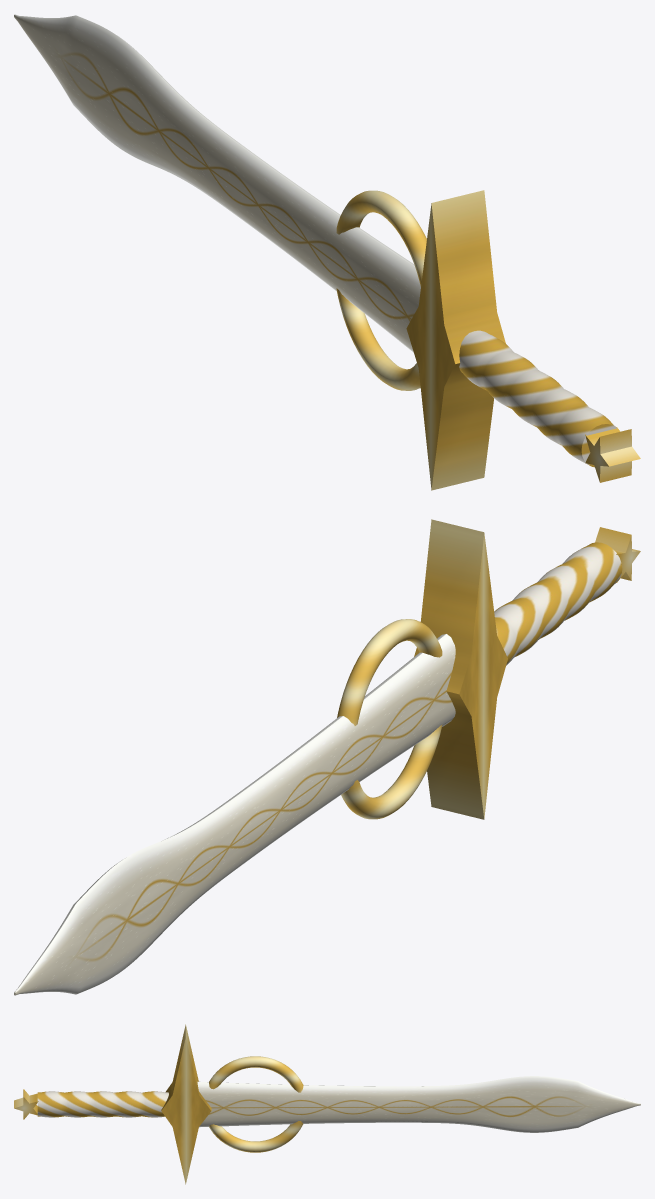
File: Boss_CelestialTitan.glb
The picture shows the model from 3 angles, top to bottom: view 1: azimuth 30°, elevation 25°; view 2: azimuth 150°, elevation 25°; view 3: azimuth 270°, elevation 25°; orthographic projection. The views are drawn at different scales.
Visible parts, largest first — view 1: Boss_CelestialTitan; view 2: Boss_CelestialTitan; view 3: Boss_CelestialTitan.
Part boxes in pixels (x1=…): Boss_CelestialTitan: x1=14, y1=14, x2=640, y2=490; Boss_CelestialTitan: x1=14, y1=519, x2=640, y2=995; Boss_CelestialTitan: x1=14, y1=1024, x2=640, y2=1184.
Bounding box in the file's own units: 0.05 × 0.26 × 1.
1 material, 1 textured.
